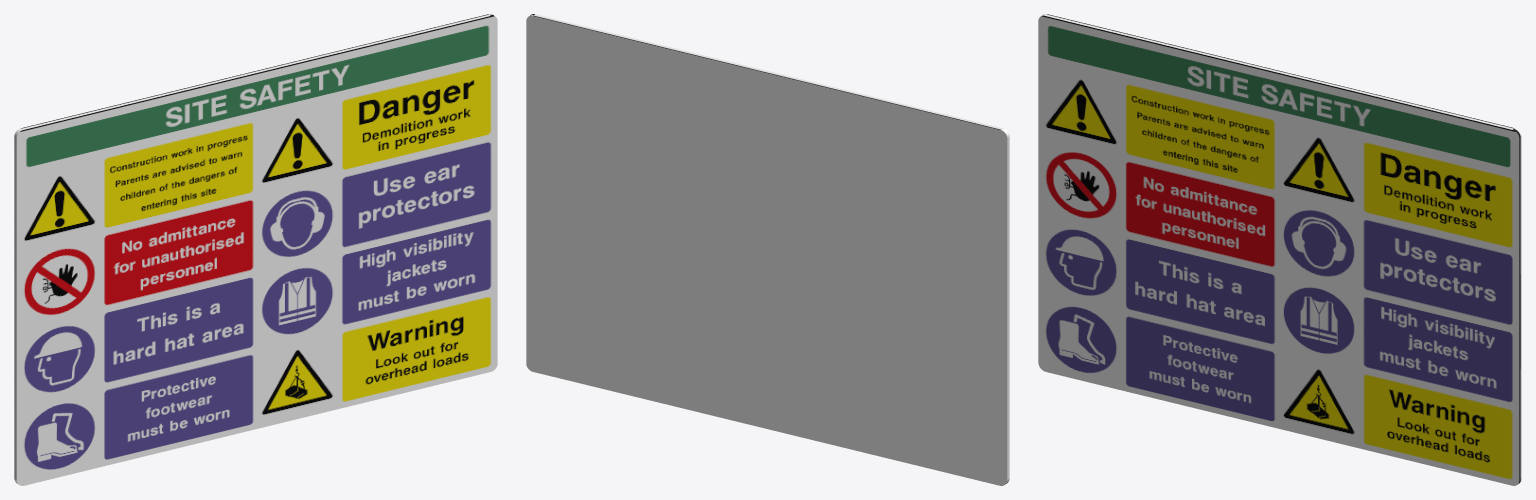
3 views of the same model, side by side, from view 1: azimuth 30°, elevation 25°; view 2: azimuth 150°, elevation 25°; view 3: azimuth 330°, elevation 25° (orthographic).
Visible parts, largest first — view 1: Danger_sign; view 2: Danger_sign (×2); view 3: Danger_sign.
Part boxes in pixels (left/top/right/bottom): Danger_sign: left=14, top=14, right=497, bottom=485; Danger_sign (×2): left=526, top=14, right=1009, bottom=485; Danger_sign: left=1038, top=14, right=1521, bottom=485.
Bounding box in the file's own units: 11.63 × 0.1 × 8.22.
2 materials, 1 textured.
